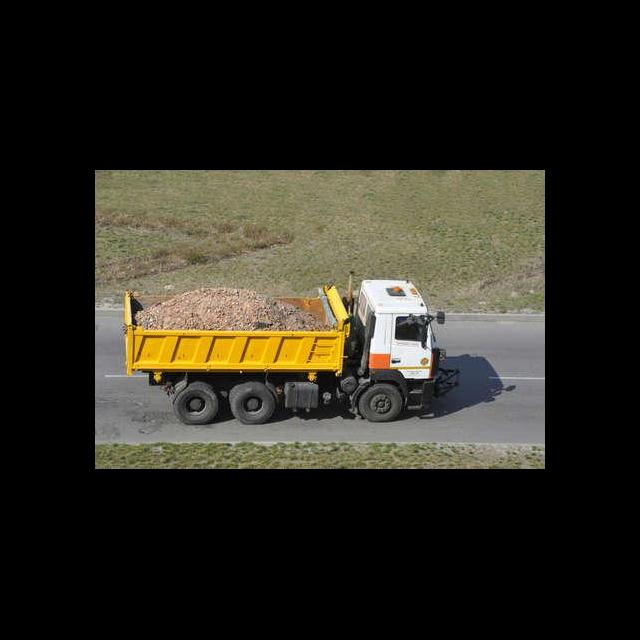dump truck: (120, 276, 442, 426)
